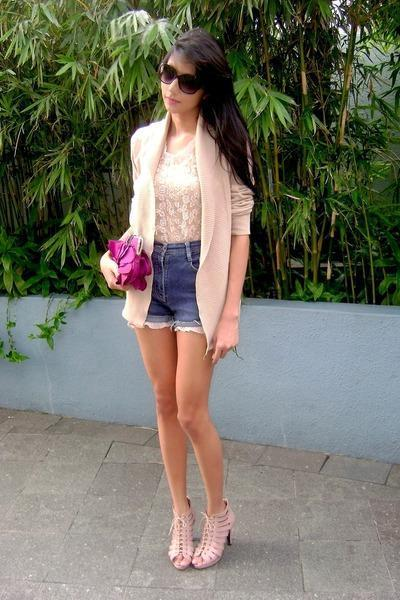bag: (104, 235, 169, 298)
jacket: (119, 112, 253, 346)
shirt: (143, 132, 203, 251)
shoe: (168, 505, 231, 563)
shorts: (132, 236, 201, 347)
sunglass: (168, 68, 203, 106)
